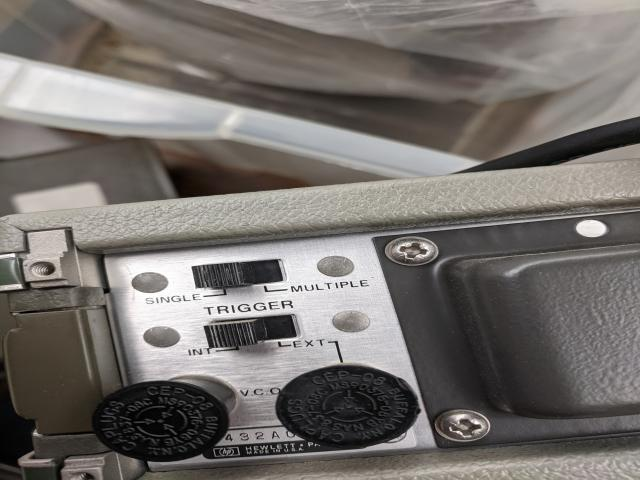CRS: (434, 409, 488, 443), (385, 236, 441, 266)
